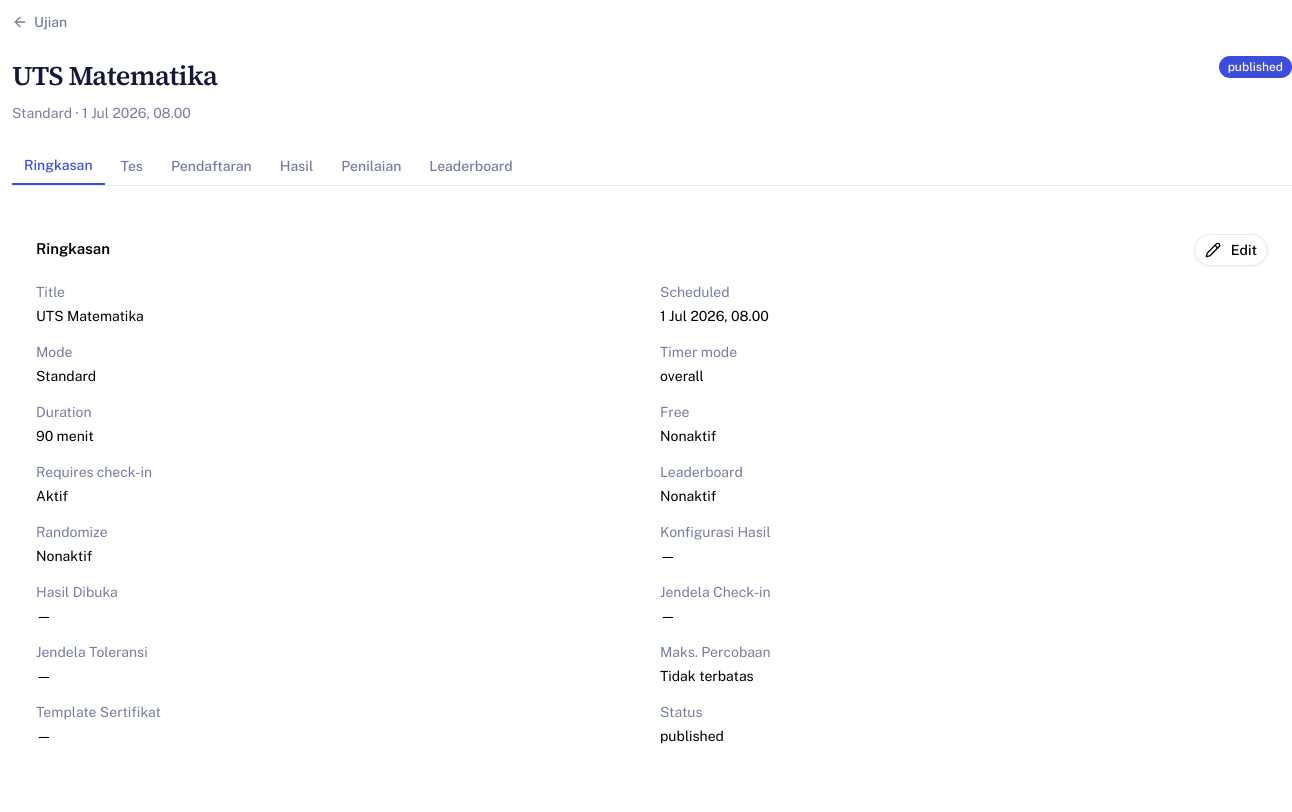
Scenario: ExamPackageDetailPage — grading tab › selecting a session shows its essays
What coordinates should you click on to do the following:
click the button "Penilaian"
I would click on:
 (371, 166)
Its box is [329,146,413,184].
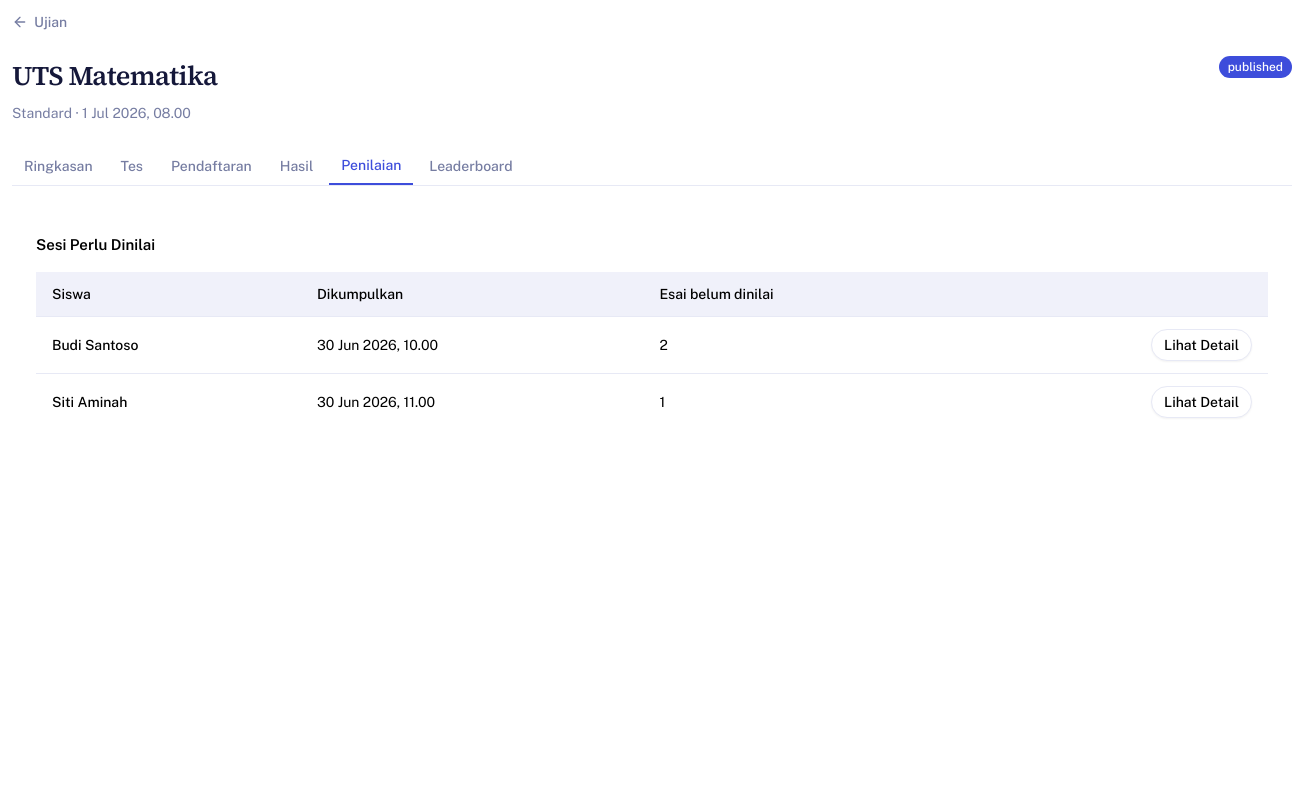
Now the text "Budi Santoso" is shown, box [36,316,301,374]
What coordinates should you click on to do the following:
click the button "Lihat Detail" in the row of "Budi Santoso"
I would click on:
 (1202, 345)
Its box is [1151,329,1252,361].
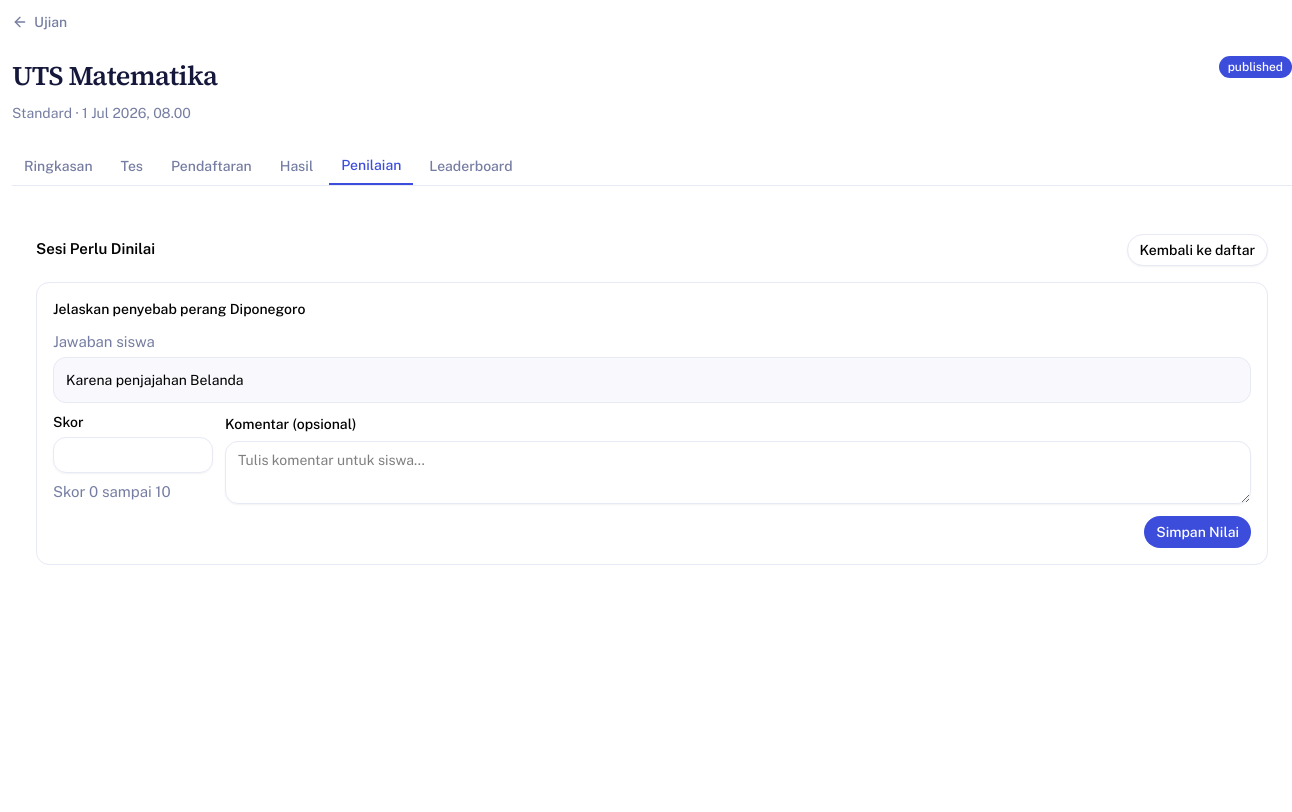
Now the text "Jelaskan penyebab perang Diponegoro" is shown, box [53,300,305,316]
Now the text "Karena penjajahan Belanda" is shown, box [53,357,1251,403]
